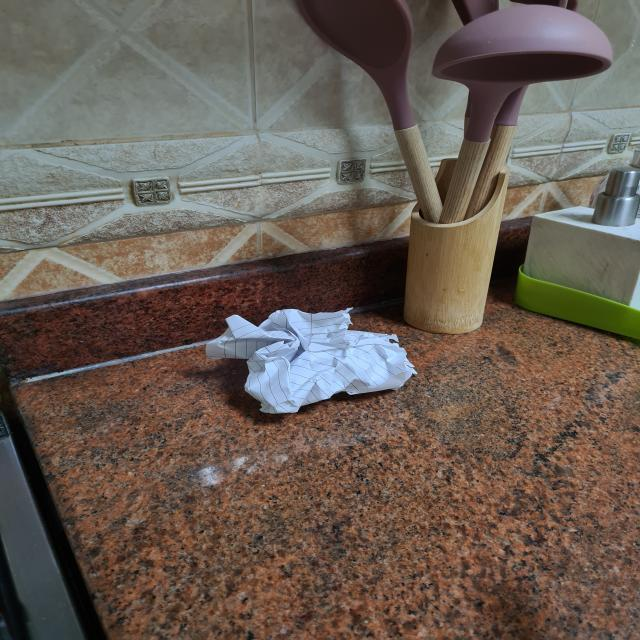Paper: (211, 308, 422, 413)
